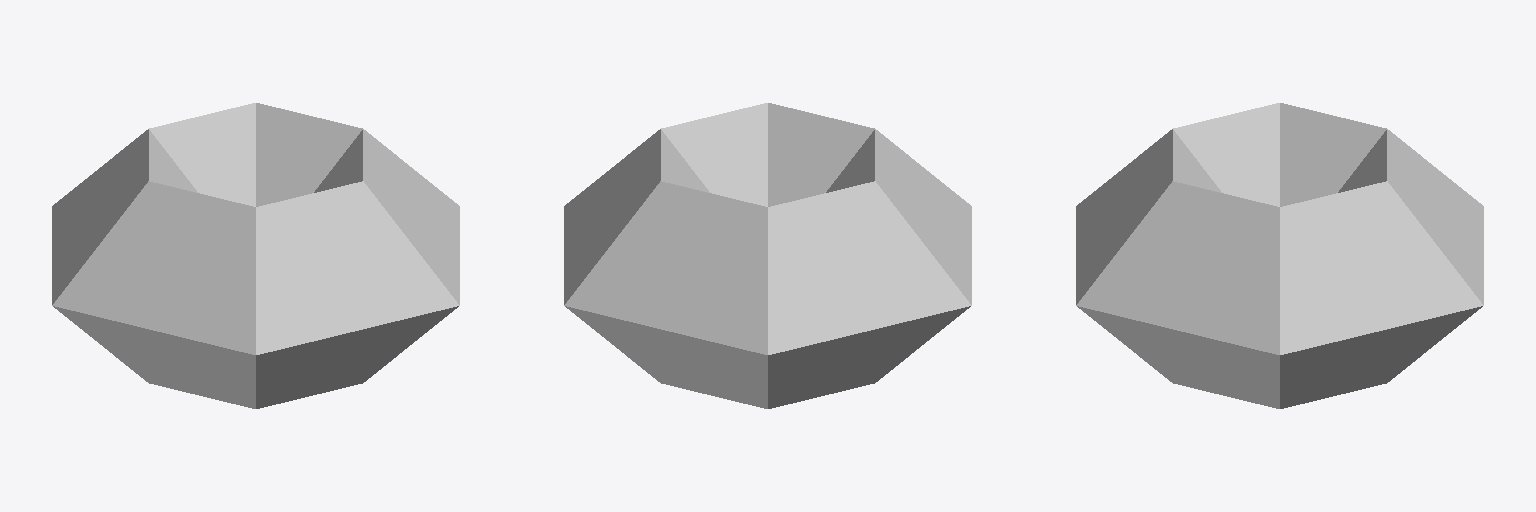
Rendered from explosion_1.obj.
The picture shows the model from 3 angles: view 1: azimuth 30°, elevation 25°; view 2: azimuth 150°, elevation 25°; view 3: azimuth 270°, elevation 25°; orthographic projection.
Parts seen in each view (by area): view 1: Sphere; view 2: Sphere; view 3: Sphere.
Boxes of the visible parts, <box> form: Sphere: <box>52,103,459,408</box>; Sphere: <box>564,103,971,408</box>; Sphere: <box>1076,103,1483,408</box>.
Bounding box in the file's own units: 76 × 36 × 65.82.